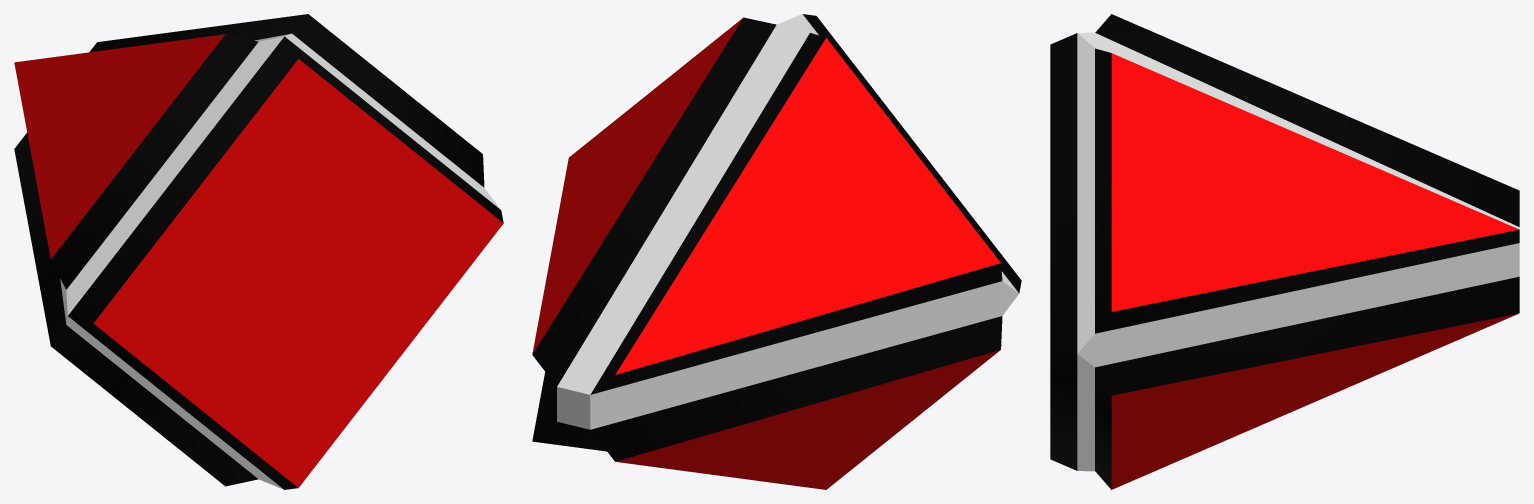
File: prism.fbx
3 renders of one model, left to right at view 1: azimuth 30°, elevation 25°; view 2: azimuth 150°, elevation 25°; view 3: azimuth 270°, elevation 25°, orthographic. The views are drawn at different scales.
Visible parts, largest first — view 1: Cone; view 2: Cone; view 3: Cone.
Boxes of the visible parts, bbox=[...] form: Cone: bbox=[14, 14, 503, 489]; Cone: bbox=[532, 14, 1021, 489]; Cone: bbox=[1050, 14, 1519, 489].
Bounding box in the file's own units: 0.9942 × 0.9942 × 0.9649.
